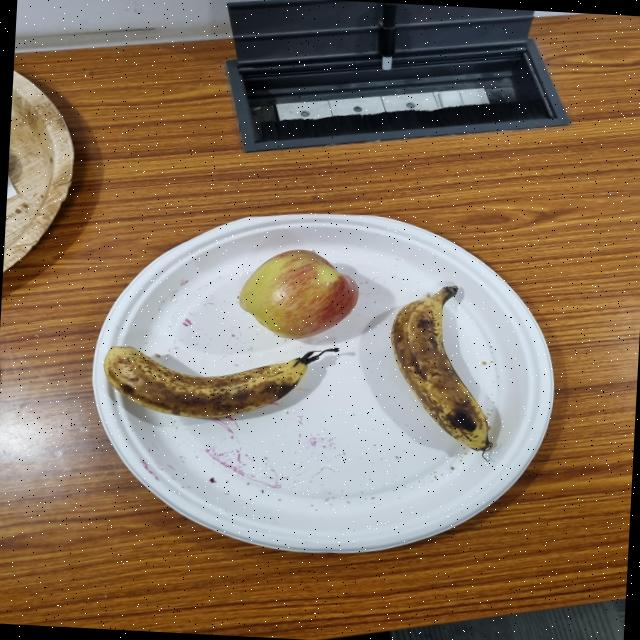apple: (187, 172, 311, 264)
banana: (44, 286, 264, 362), (80, 70, 174, 230)
